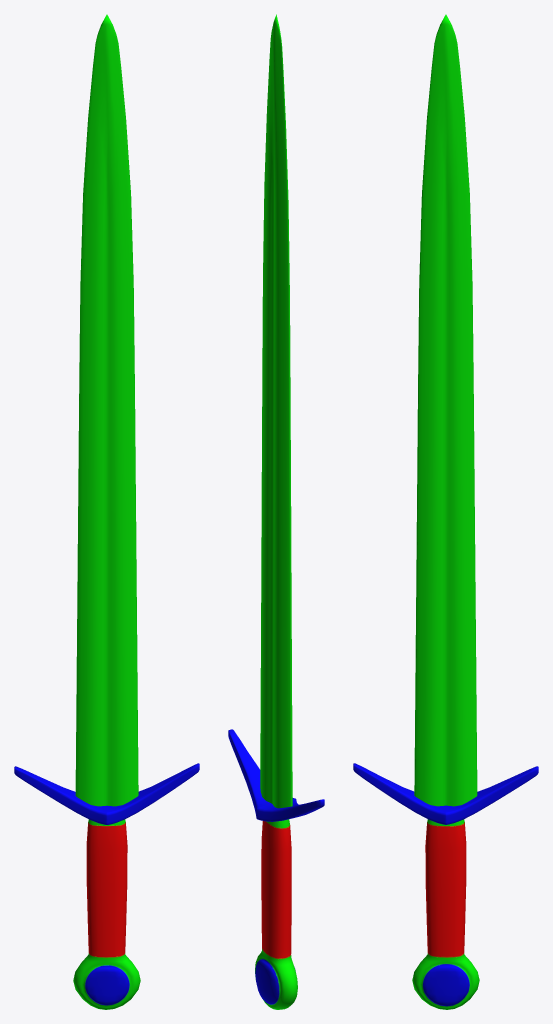
File: SM_Medieval_Weapons_Claybeg.fbx
3 views of the same model, side by side, from view 1: azimuth 90°, elevation 25°; view 2: azimuth 210°, elevation 25°; view 3: azimuth 270°, elevation 25° (orthographic).
Parts seen in each view (by area): view 1: SM_Medieval_Weapons_Claybeg; view 2: SM_Medieval_Weapons_Claybeg; view 3: SM_Medieval_Weapons_Claybeg.
Boxes of the visible parts, x1=… form: SM_Medieval_Weapons_Claybeg: x1=14, y1=14, x2=199, y2=1009; SM_Medieval_Weapons_Claybeg: x1=228, y1=14, x2=324, y2=1009; SM_Medieval_Weapons_Claybeg: x1=353, y1=14, x2=538, y2=1009.
Size of the model in its own units: 4.13 by 16.7 by 98.87.
